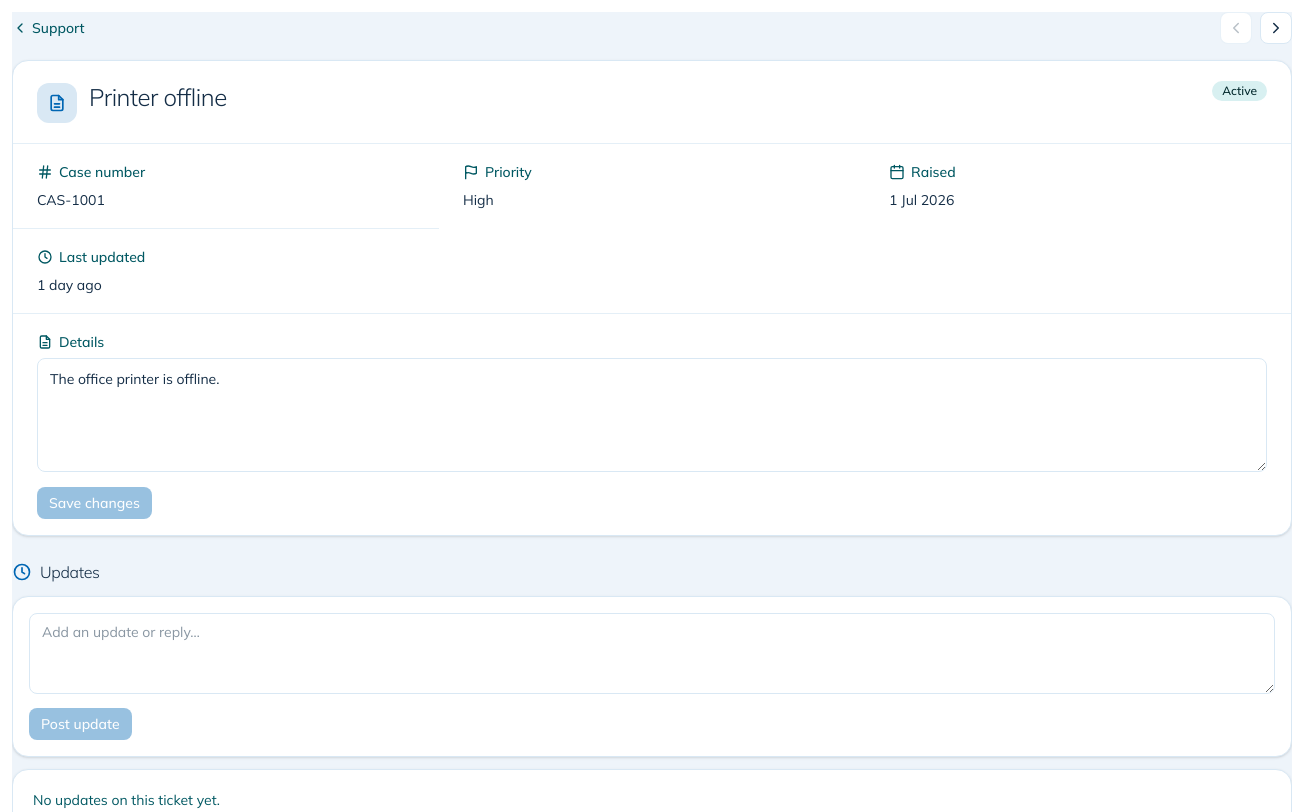
Test: CaseDetailPage › enables next but disables prev on the first case, and steps to the next
The image size is (1304, 812).
Expected: the heading "Printer offline" is shown, [89, 81, 227, 113]
Expected: the button named "Previous" is disabled, [1220, 12, 1252, 44]
Click the button named "Next" at (1276, 28), box [1260, 12, 1292, 44]
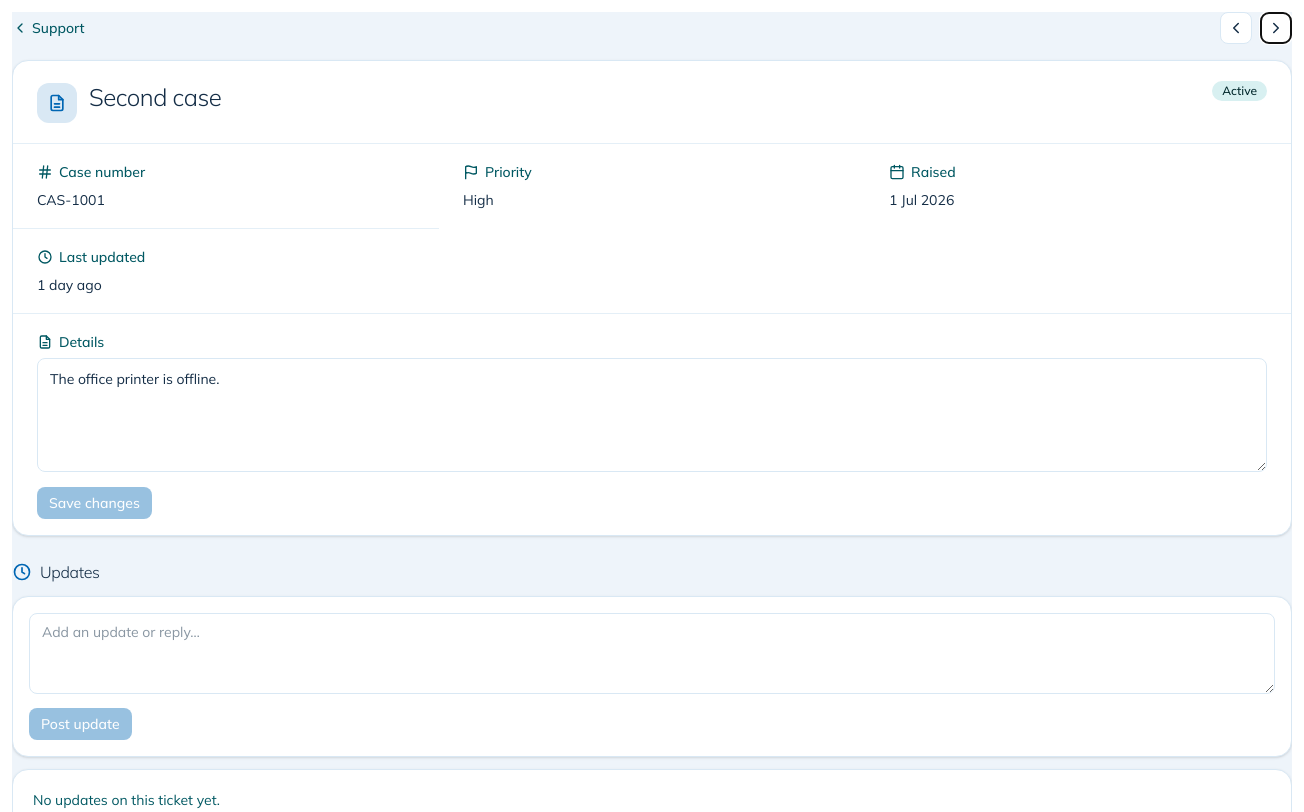
Now the heading "Second case" is shown, box [89, 81, 221, 113]
